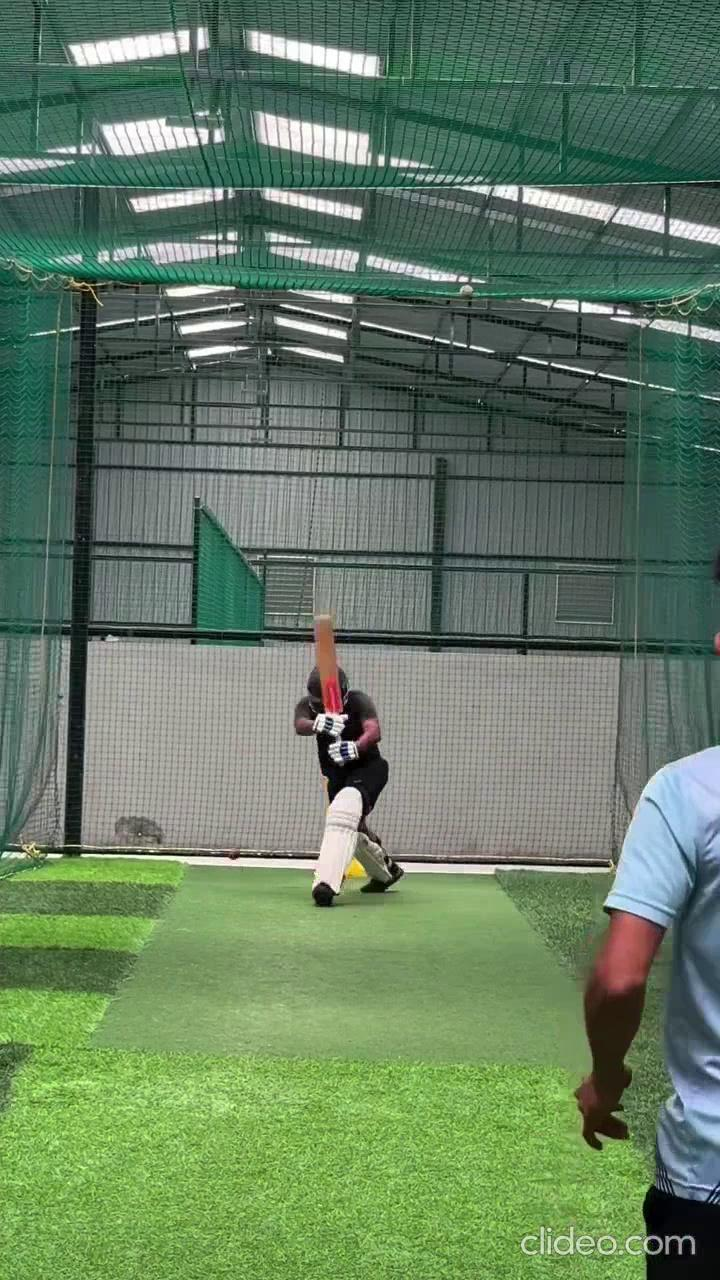bat: (310, 611, 344, 715)
